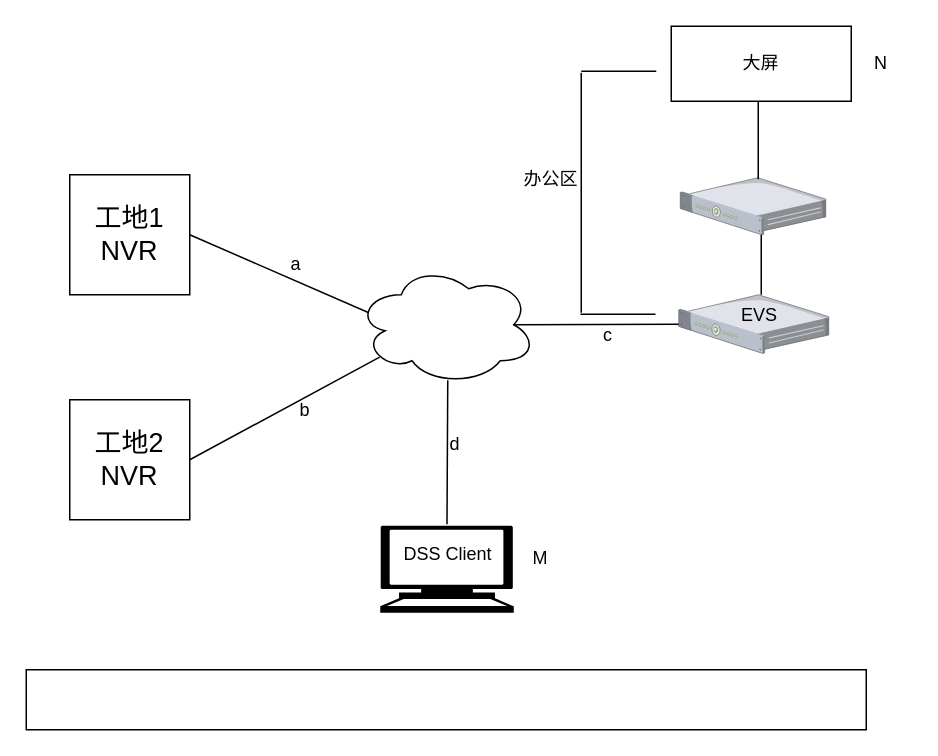
Some shapes in this 938 by 756 pixel diagram are drawn without their labels. The shapes that lost their labels are listed below. From the top down, each one's centre as x and y in pixels, then its label:
At point 752,205: "DSS".
At point 445,324: "云服务器 DSS".
At point 445,699: "能否实现在M处播放实时视频的时候，只占用d的带宽，而不占用a和b的带宽（目前我们在办公区通过安装EVS实现了在大屏播放实时视频的时候不占用a和b带宽）".
